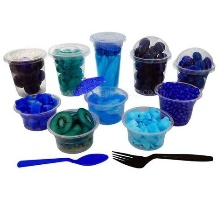glass: (44, 104, 106, 156), (127, 33, 173, 98), (44, 38, 91, 98), (1, 44, 50, 100), (118, 103, 175, 151), (169, 43, 219, 97), (87, 26, 126, 95), (150, 78, 201, 127), (10, 90, 63, 136), (77, 83, 131, 126)
